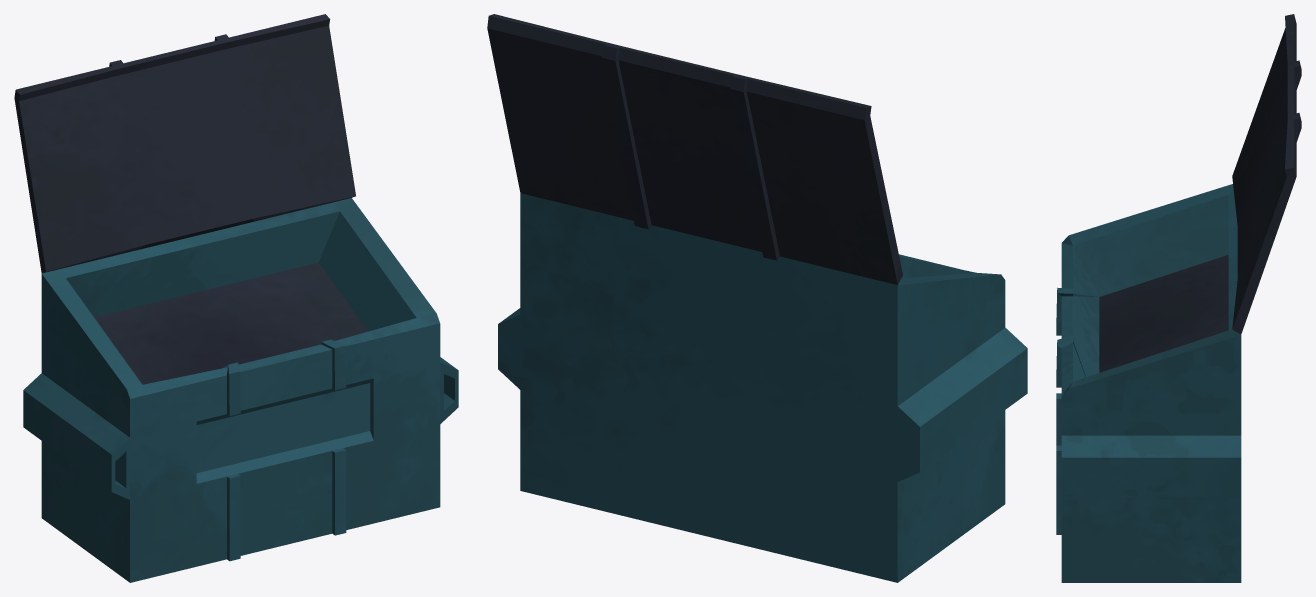
Rendered from lesser_trash_container.fbx.
3 renders of one model, left to right at view 1: azimuth 30°, elevation 25°; view 2: azimuth 150°, elevation 25°; view 3: azimuth 270°, elevation 25°, orthographic. The views are drawn at different scales.
Parts seen in each view (by area): view 1: lesser_trash_container, lesser_trash_container_lid; view 2: lesser_trash_container, lesser_trash_container_lid; view 3: lesser_trash_container, lesser_trash_container_lid.
Part boxes in pixels (x1,y1,x2,y2): lesser_trash_container: (23,198,458,582); lesser_trash_container_lid: (14,14,355,273); lesser_trash_container: (498,193,1027,582); lesser_trash_container_lid: (487,14,902,284); lesser_trash_container: (1056,184,1241,582); lesser_trash_container_lid: (1232,14,1301,334).
Size of the model in its own units: 171 by 194 by 104.
